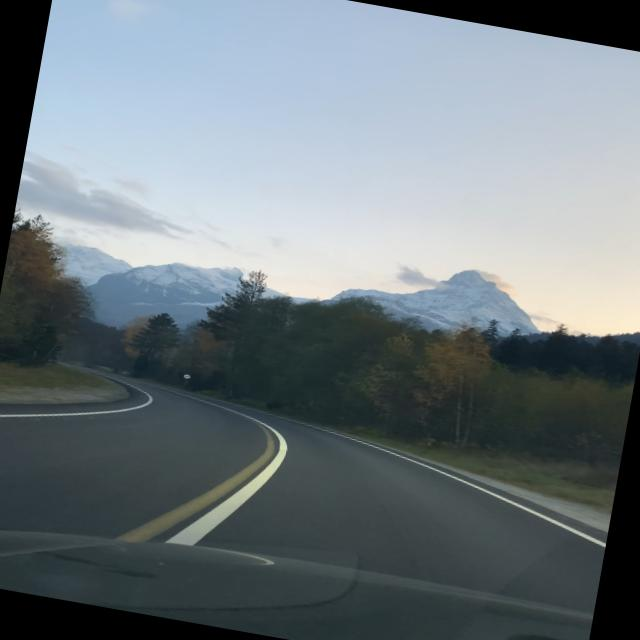asphalt: (0, 369, 607, 614)
